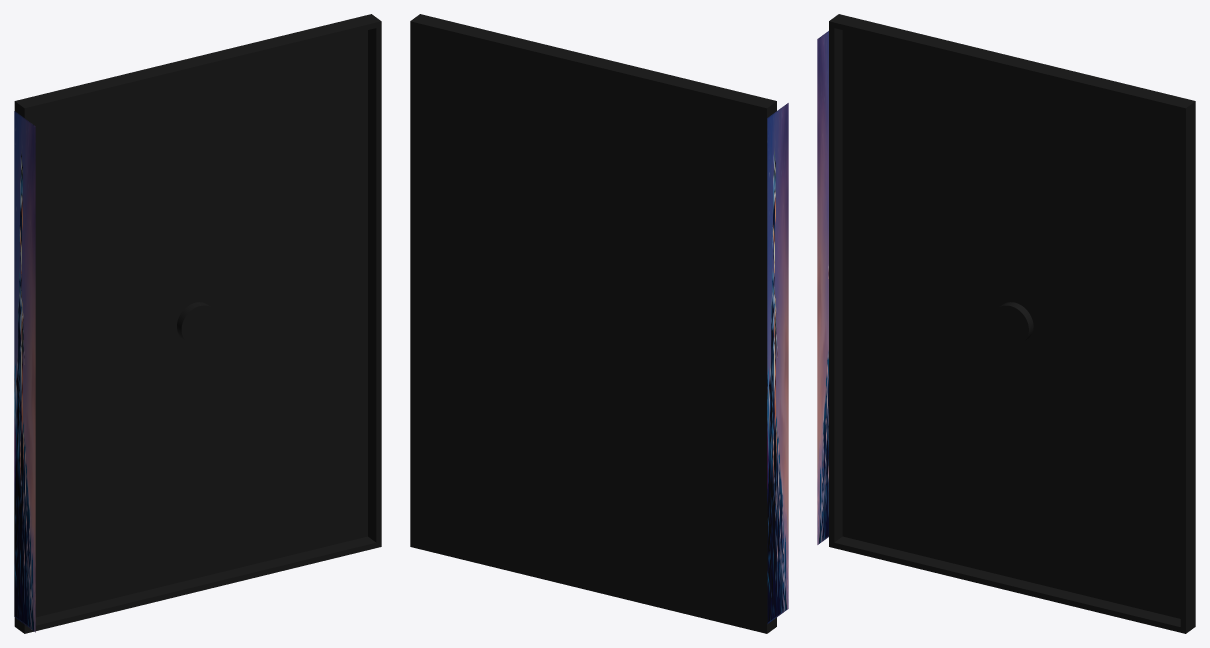
Rendered from dvd-case.glb.
3 views of the same model, side by side, from view 1: azimuth 30°, elevation 25°; view 2: azimuth 150°, elevation 25°; view 3: azimuth 330°, elevation 25° (orthographic).
Visible parts, largest first — view 1: Case_Back, Spine_Art_Plane, Back_Rim_Right, Back_Rim_Top, Back_Rim_Bottom, Cylinder; view 2: Case_Back, Spine_Art_Plane, Back_Rim_Top; view 3: Case_Back, Back_Rim_Right, Back_Rim_Left, Spine_Art_Plane, Back_Rim_Top, Back_Rim_Bottom, Cylinder.
Boxes of the visible parts, x1,y1,x2,y2 form: Case_Back: (14,14,372,626); Spine_Art_Plane: (14,111,35,632); Back_Rim_Right: (368,15,381,547); Back_Rim_Top: (22,16,378,112); Back_Rim_Bottom: (27,536,378,633); Cylinder: (177,302,218,345); Case_Back: (410,20,768,633); Spine_Art_Plane: (767,103,788,623); Back_Rim_Top: (417,15,771,105); Case_Back: (838,14,1195,626); Back_Rim_Right: (1180,101,1194,633); Back_Rim_Left: (829,15,842,547); Spine_Art_Plane: (817,31,828,544); Back_Rim_Top: (832,16,1188,112); Back_Rim_Bottom: (832,536,1183,633); Cylinder: (992,302,1033,345).
Bounding box in the file's own units: 0.1351 × 0.19 × 0.014.
Materials: 2 (1 with a texture image).
